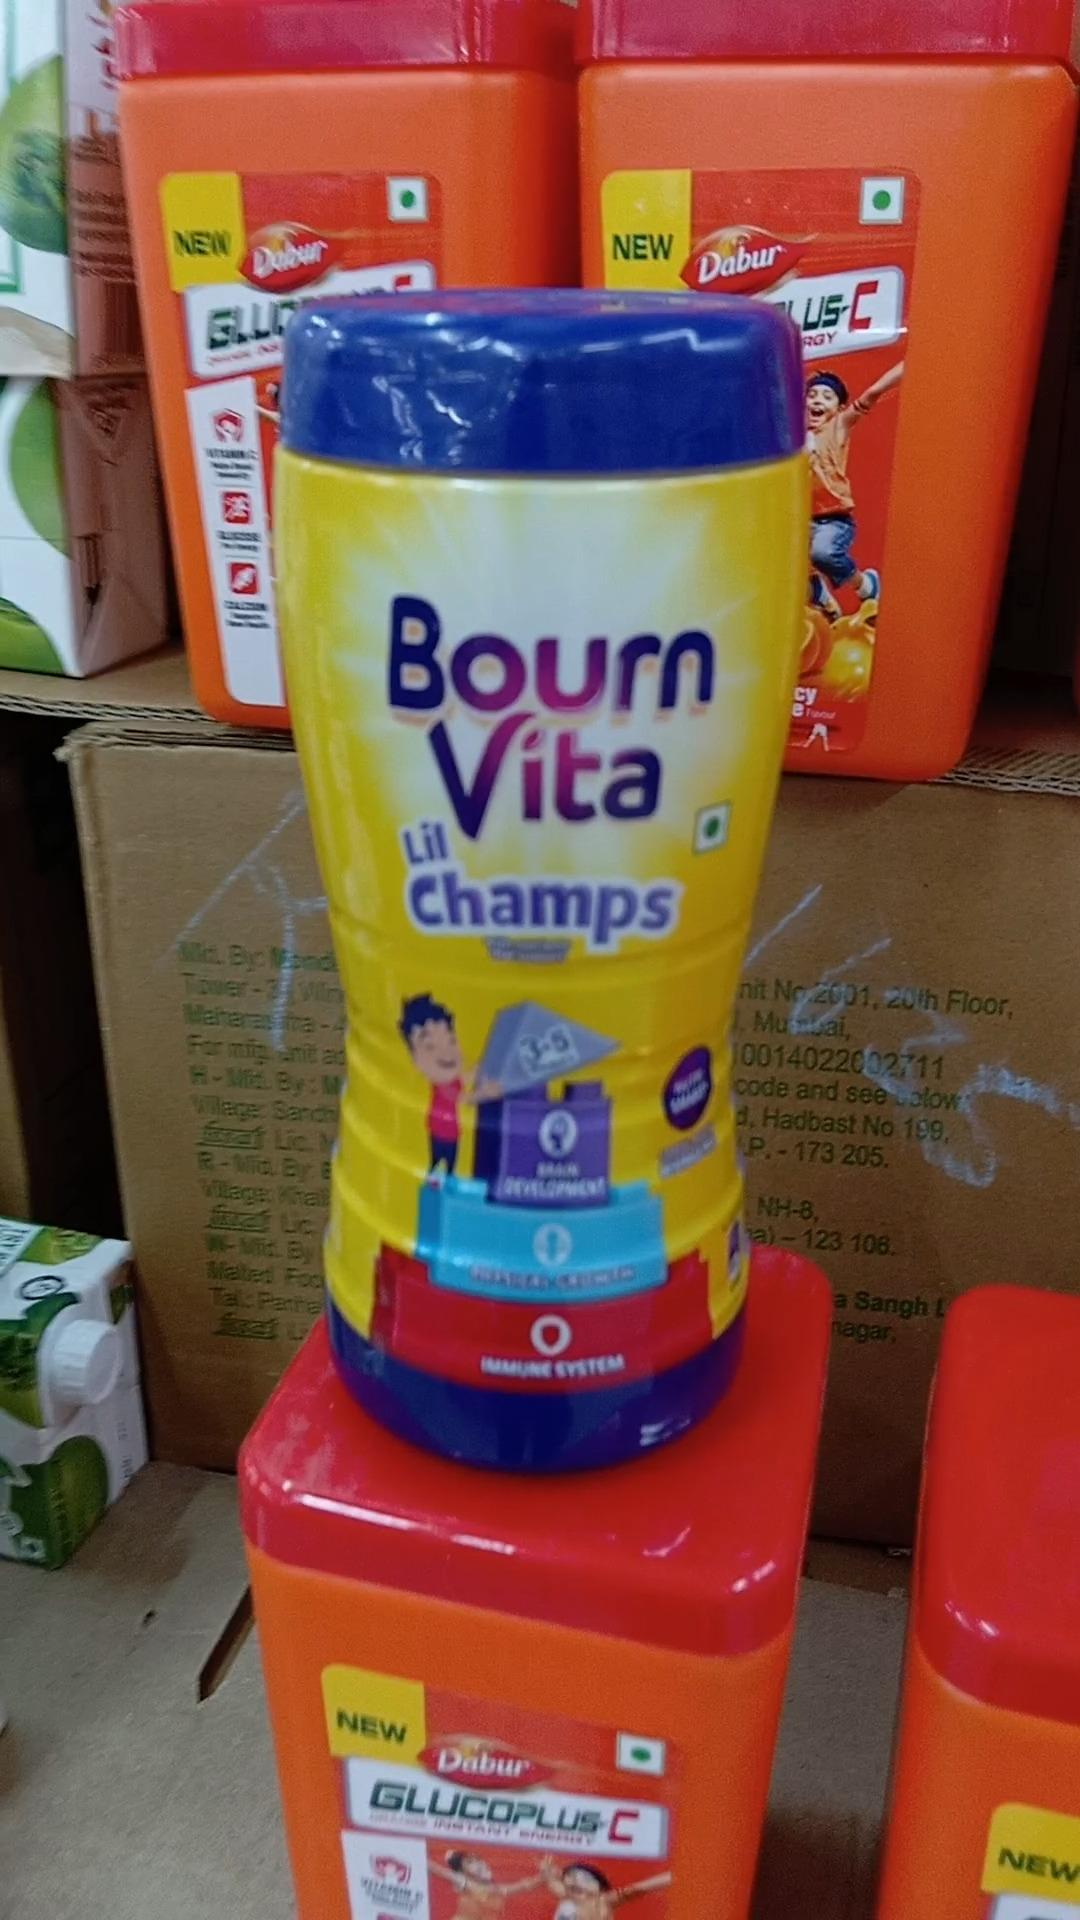BOURN_VITA_CHAMPS_500_G_JAR: (280, 282, 769, 1476)
